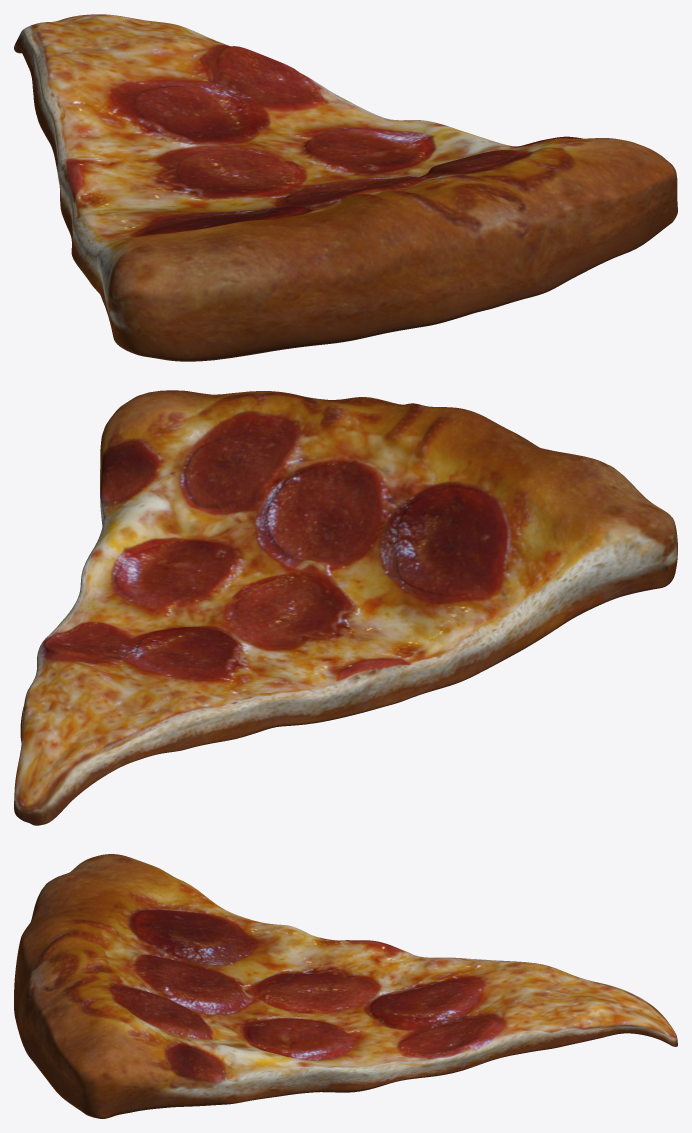
The model's file is pizza_1.glb.
3 renders of one model, top to bottom at view 1: azimuth 30°, elevation 25°; view 2: azimuth 150°, elevation 25°; view 3: azimuth 270°, elevation 25°, orthographic. The views are drawn at different scales.
Parts seen in each view (by area): view 1: 13917_Pepperoni_v2_l2; view 2: 13917_Pepperoni_v2_l2; view 3: 13917_Pepperoni_v2_l2.
Part boxes in pixels (bbox=[...]): 13917_Pepperoni_v2_l2: bbox=[14, 14, 677, 361]; 13917_Pepperoni_v2_l2: bbox=[14, 390, 677, 825]; 13917_Pepperoni_v2_l2: bbox=[14, 854, 677, 1118].
Bounding box in the file's own units: 11.01 × 2.63 × 14.36.
1 material, 1 textured.
